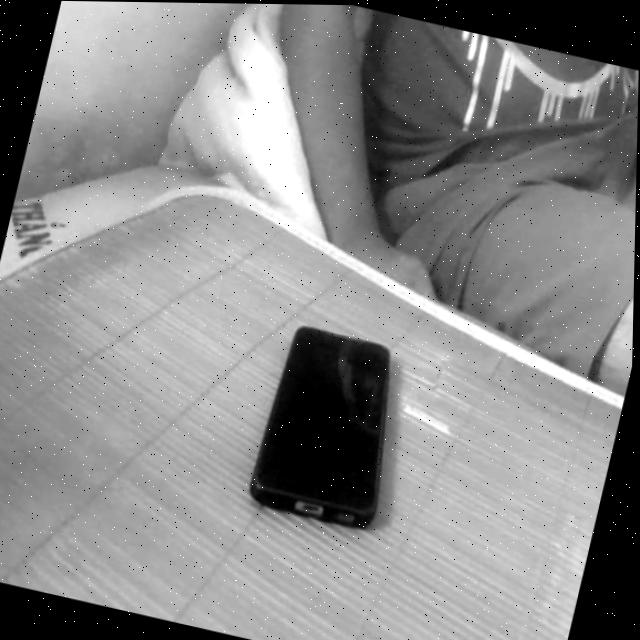phone: (225, 291, 441, 561)
